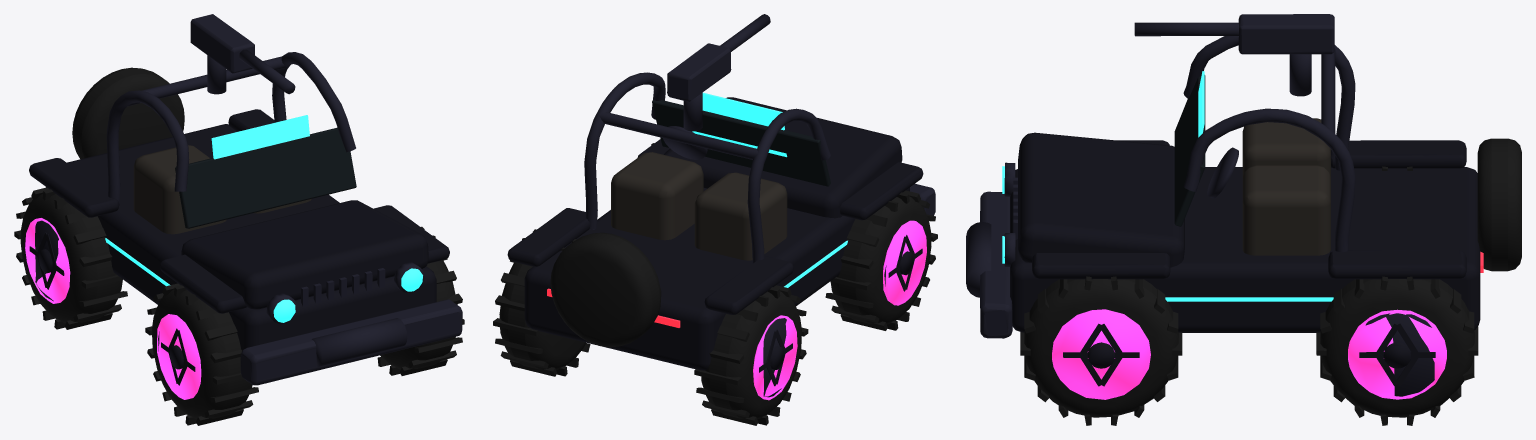
The model's file is jeep_neon.glb.
3 views of the same model, side by side, from view 1: azimuth 30°, elevation 25°; view 2: azimuth 150°, elevation 25°; view 3: azimuth 270°, elevation 25° (orthographic). The views are drawn at different scales.
Visible parts, largest first — view 1: krop_net; view 2: krop_net; view 3: krop_net.
Part boxes in pixels (box(x1,y1,x2,y2)): krop_net: box(14, 14, 464, 425); krop_net: box(493, 14, 937, 425); krop_net: box(966, 14, 1521, 425).
Size of the model in its own units: 1.04 by 1.15 by 1.71.
